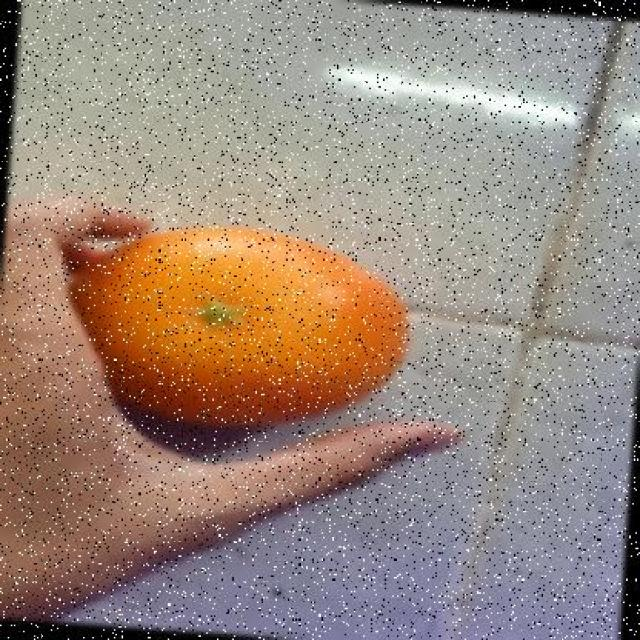Orange: (66, 222, 411, 430)
